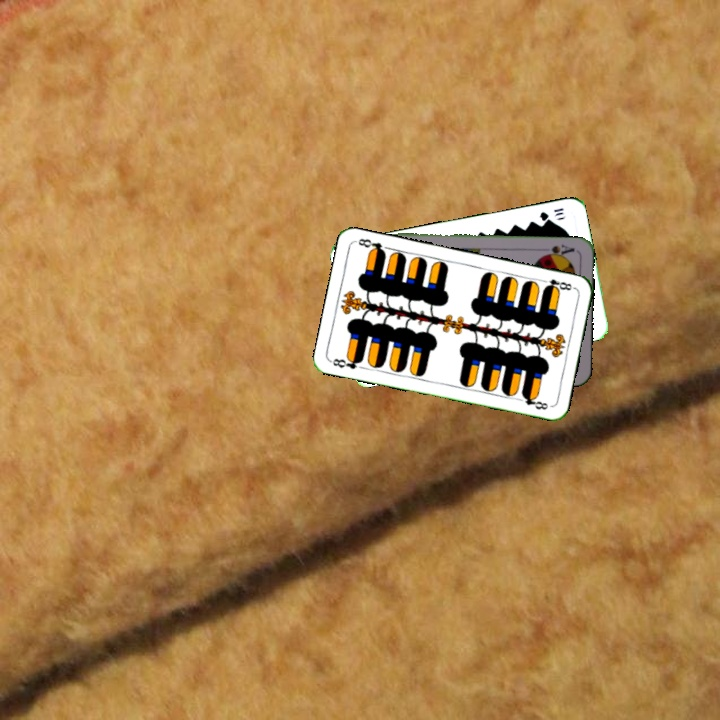E8: (537, 275, 577, 294), (327, 353, 365, 372)
G10: (536, 204, 567, 223)
SA: (537, 241, 577, 260)
